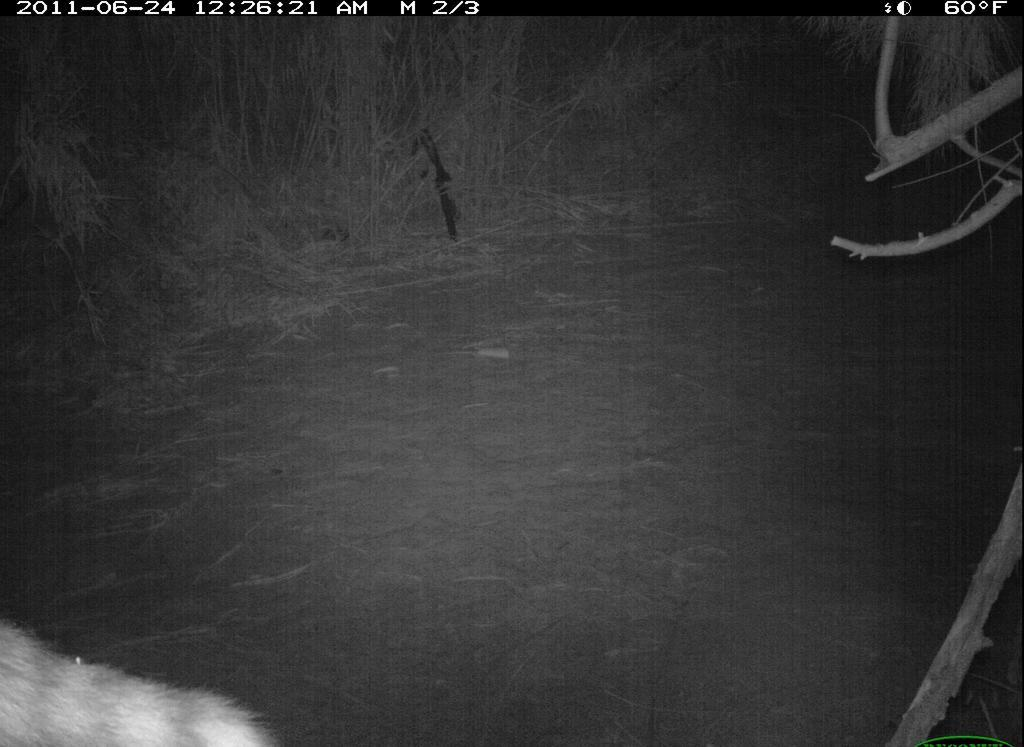raccoon: (3, 598, 300, 747)
